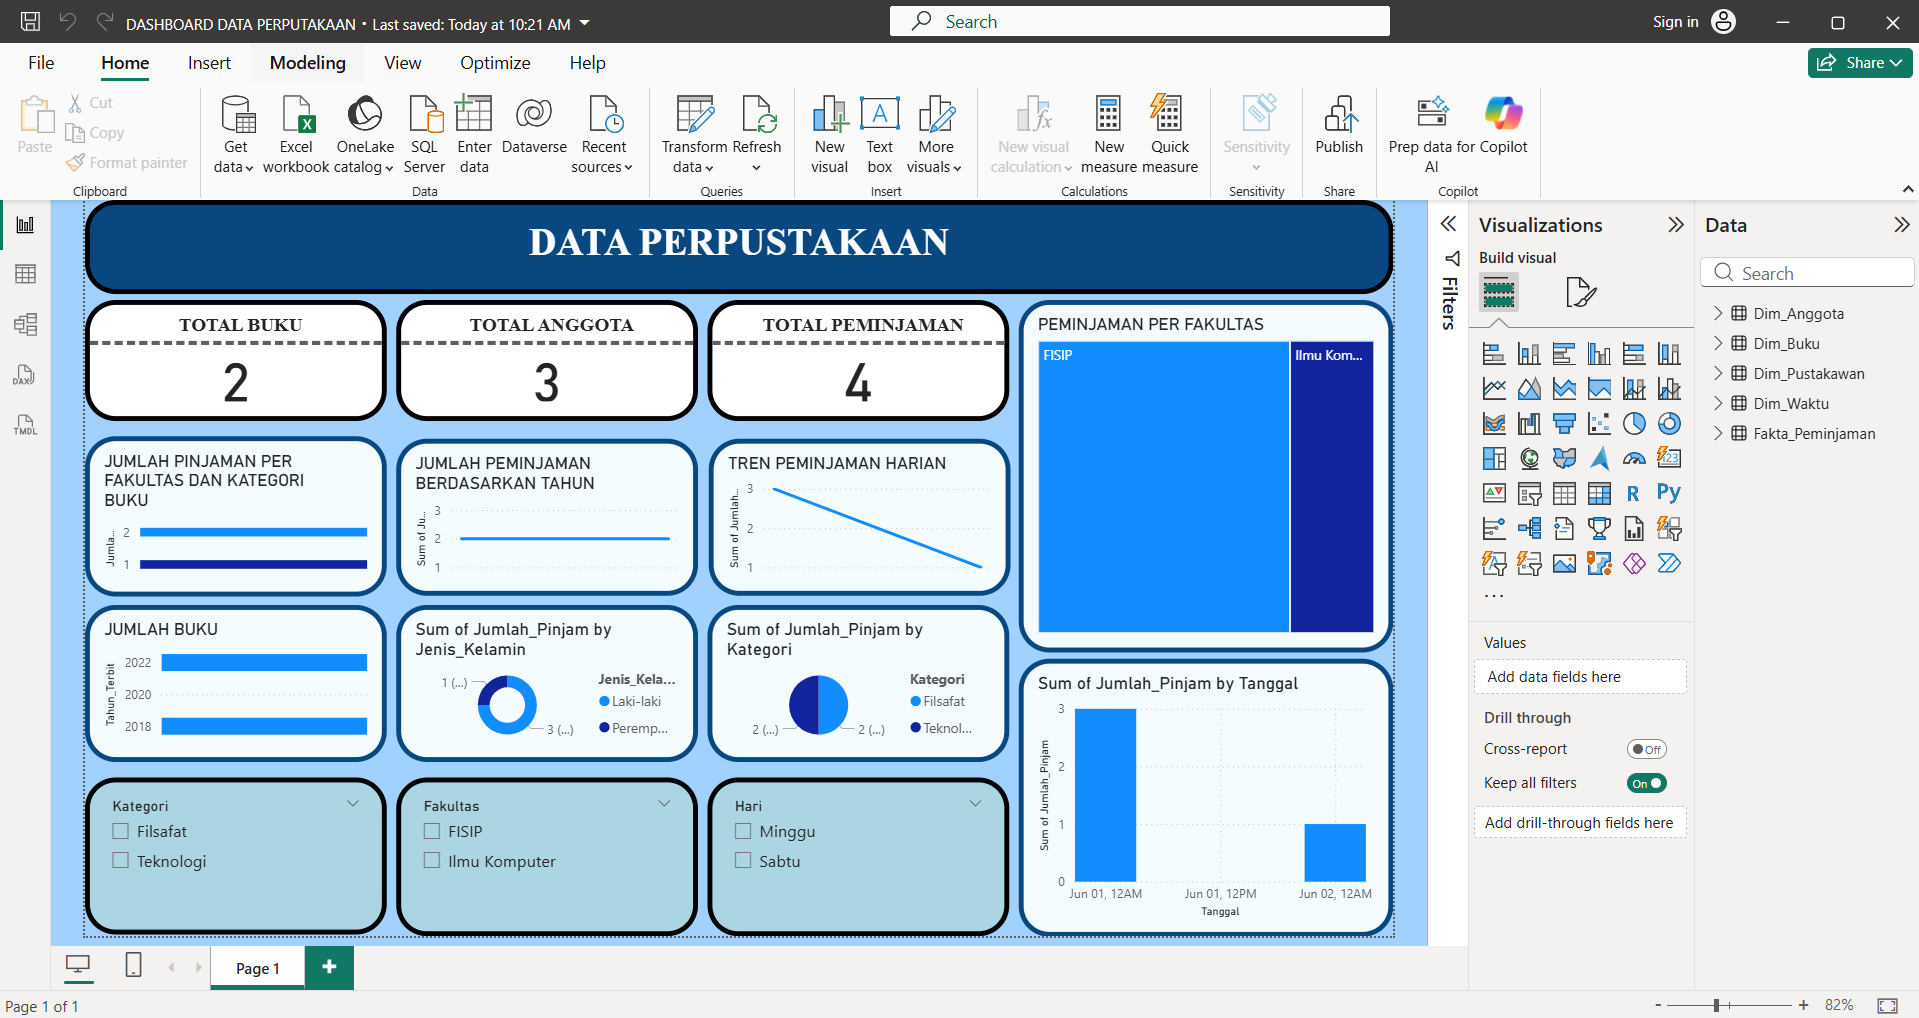

This screenshot's page, from the dashboard's own definition file:
{"tool":"powerbi","page":{"name":"Page 1","canvas":[1280,720],"ordinal":0},"visuals":[{"type":"textbox","box":[0,0,1280.3,91.9],"z":0},{"type":"clusteredBarChart","title":"JUMLAH BUKU","fields":{"Category":["Dim_Buku.Tahun_Terbit"],"Y":["CountNonNull(Dim_Buku.Judul_Buku)"]},"box":[0,396.6,295,153.7],"z":1000},{"type":"lineChart","title":"TREN PEMINJAMAN HARIAN","fields":{"Y":["Sum(Fakta_Peminjaman.Jumlah_Pinjam)"],"Category":["Dim_Waktu.Tanggal.Variation.Date Hierarchy.Year","Dim_Waktu.Tanggal.Variation.Date Hierarchy.Quarter","Dim_Waktu.Tanggal.Variation.Date Hierarchy.Month","Dim_Waktu.Tanggal.Variation.Date Hierarchy.Day"]},"box":[610.6,233.3,295,153.7],"z":2000},{"type":"pieChart","fields":{"Y":["Sum(Fakta_Peminjaman.Jumlah_Pinjam)"],"Category":["Dim_Buku.Kategori"]},"box":[609.3,396.6,295,153.7],"z":3000},{"type":"treemap","title":"PEMINJAMAN PER FAKULTAS","fields":{"Values":["Sum(Fakta_Peminjaman.Jumlah_Pinjam)"],"Group":["Dim_Anggota.Column5"]},"box":[913.6,97.4,366.4,344.4],"z":4000},{"type":"barChart","title":"JUMLAH PINJAMAN PER FAKULTAS DAN KATEGORI BUKU","fields":{"Series":["Dim_Buku.Kategori"],"Category":["Fakta_Peminjaman.Jumlah_Pinjam"],"Y":["CountNonNull(Dim_Anggota.Column5)"]},"box":[0,230.5,295,156.4],"z":5000},{"type":"lineChart","title":"JUMLAH PEMINJAMAN BERDASARKAN TAHUN","fields":{"Category":["Dim_Buku.Tahun_Terbit"],"Y":["Sum(Fakta_Peminjaman.Jumlah_Pinjam)"]},"box":[304.6,233.3,295,153.7],"z":6000},{"type":"donutChart","fields":{"Y":["Sum(Fakta_Peminjaman.Jumlah_Pinjam)"],"Category":["Dim_Anggota.Jenis_Kelamin"]},"box":[304.6,396.6,295,153.7],"z":7000},{"type":"card","title":"TOTAL BUKU","fields":{"Values":["CountNonNull(Dim_Buku.ID_Buku)"]},"box":[0,97.4,295,118],"z":8000},{"type":"card","title":"TOTAL ANGGOTA","fields":{"Values":["CountNonNull(Fakta_Peminjaman.ID_Anggota)"]},"box":[304.6,97.4,295,118],"z":9000},{"type":"card","title":"TOTAL PEMINJAMAN","fields":{"Values":["Sum(Fakta_Peminjaman.Jumlah_Pinjam)"]},"box":[609.3,97.4,295,118],"z":10000},{"type":"columnChart","fields":{"Category":["Dim_Waktu.Tanggal"],"Y":["Sum(Fakta_Peminjaman.Jumlah_Pinjam)"]},"box":[913.9,448.7,366.4,271.7],"z":11000},{"type":"slicer","fields":{"Values":["Dim_Buku.Kategori"]},"box":[0,565.4,295,153.7],"z":12000},{"type":"slicer","fields":{"Values":["Dim_Anggota.Fakultas"]},"box":[304.6,565.4,295,155.1],"z":13000},{"type":"slicer","fields":{"Values":["Dim_Waktu.Hari"]},"box":[609.3,565.4,295,155.1],"z":14000}]}

Visuals, with their boxes on the page's 1280x720 design canvas (x1, y1, x2, y2). These are canvas units, not pixel positions in the 1919x1018 screenshot, which may show the page scaled, cropped or inside an application window:
textbox: bbox=(0, 0, 1280, 92)
"JUMLAH BUKU" clusteredBarChart: bbox=(0, 397, 295, 550)
"TREN PEMINJAMAN HARIAN" lineChart: bbox=(611, 233, 906, 387)
pieChart - Sum(Fakta_Peminjaman.Jumlah_Pinjam) x Dim_Buku.Kategori: bbox=(609, 397, 904, 550)
"PEMINJAMAN PER FAKULTAS" treemap: bbox=(914, 97, 1280, 442)
"JUMLAH PINJAMAN PER FAKULTAS DAN KATEGORI BUKU" barChart: bbox=(0, 230, 295, 387)
"JUMLAH PEMINJAMAN BERDASARKAN TAHUN" lineChart: bbox=(305, 233, 600, 387)
donutChart - Sum(Fakta_Peminjaman.Jumlah_Pinjam) x Dim_Anggota.Jenis_Kelamin: bbox=(305, 397, 600, 550)
"TOTAL BUKU" card: bbox=(0, 97, 295, 215)
"TOTAL ANGGOTA" card: bbox=(305, 97, 600, 215)
"TOTAL PEMINJAMAN" card: bbox=(609, 97, 904, 215)
columnChart - Dim_Waktu.Tanggal x Sum(Fakta_Peminjaman.Jumlah_Pinjam): bbox=(914, 449, 1280, 720)
slicer - Dim_Buku.Kategori: bbox=(0, 565, 295, 719)
slicer - Dim_Anggota.Fakultas: bbox=(305, 565, 600, 720)
slicer - Dim_Waktu.Hari: bbox=(609, 565, 904, 720)
